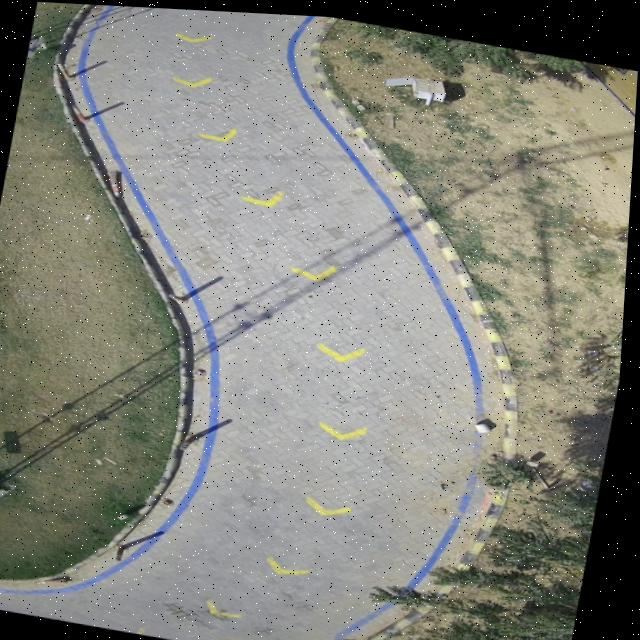No Car: (0, 2, 638, 640)
